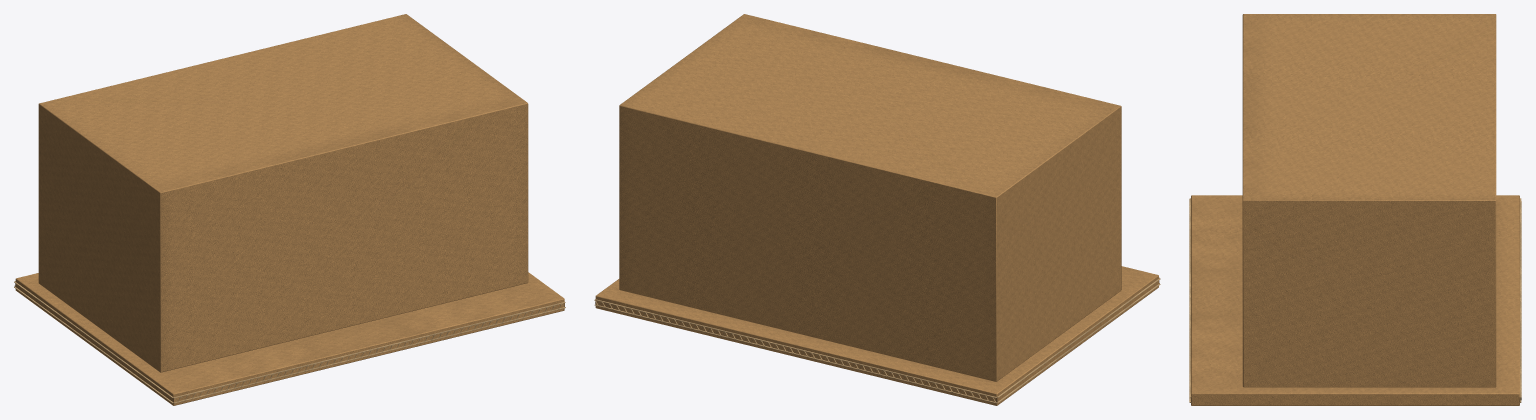
The model's file is 1-box-and-base-1.fbx.
The picture shows the model from 3 angles, left to right: view 1: azimuth 30°, elevation 25°; view 2: azimuth 150°, elevation 25°; view 3: azimuth 270°, elevation 25°; orthographic projection. The views are drawn at different scales.
Parts seen in each view (by area): view 1: box-and-base-1; view 2: box-and-base-1; view 3: box-and-base-1.
Part boxes in pixels (bbox=[...]): box-and-base-1: bbox=[14, 14, 565, 405]; box-and-base-1: bbox=[594, 14, 1160, 405]; box-and-base-1: bbox=[1189, 14, 1521, 405].
Size of the model in its own units: 10031 by 4700 by 7072.
Materials: 1 (1 with a texture image).
